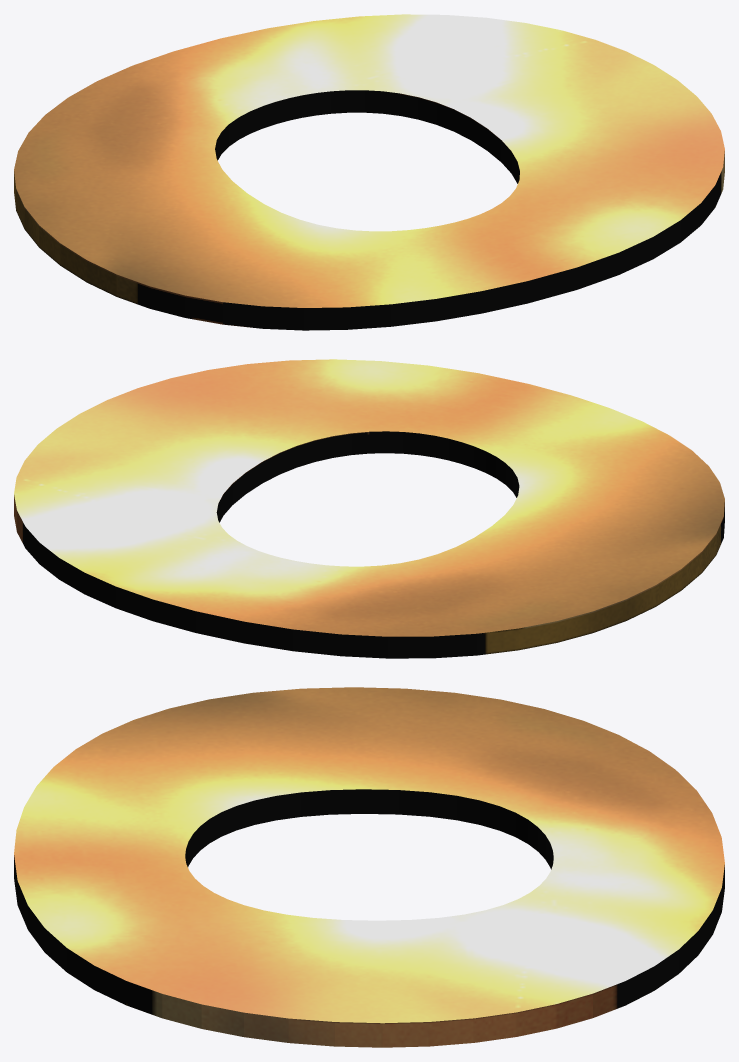
File: Number0.fbx
The picture shows the model from 3 angles, top to bottom: view 1: azimuth 30°, elevation 25°; view 2: azimuth 150°, elevation 25°; view 3: azimuth 270°, elevation 25°; orthographic projection. The views are drawn at different scales.
Parts seen in each view (by area): view 1: 0; view 2: 0; view 3: 0.
Part boxes in pixels (left/top/right/bottom): 0: left=14, top=14, right=724, bottom=330; 0: left=14, top=359, right=724, bottom=658; 0: left=14, top=687, right=724, bottom=1047.
Bounding box in the file's own units: 1.66 × 0.0566 × 1.49.
Materials: 1 (1 with a texture image).
